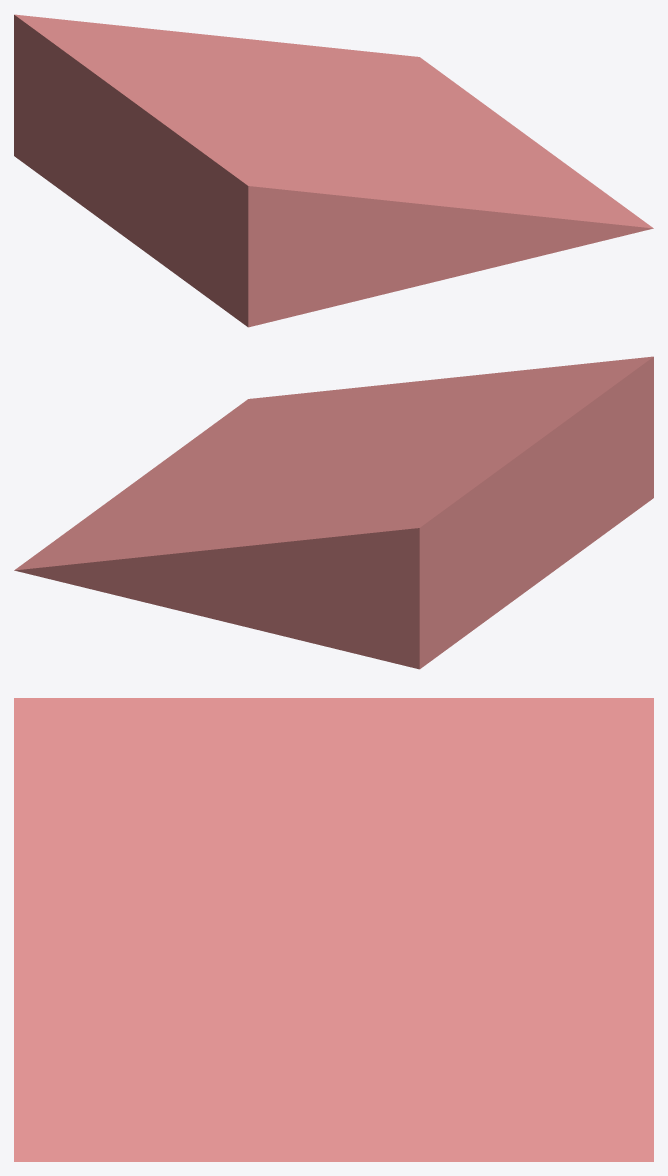
The model's file is ramp.fbx.
3 renders of one model, top to bottom at view 1: azimuth 30°, elevation 25°; view 2: azimuth 150°, elevation 25°; view 3: azimuth 270°, elevation 25°, orthographic. The views are drawn at different scales.
Parts seen in each view (by area): view 1: Ramp; view 2: Ramp; view 3: Ramp.
Boxes of the visible parts, x1,y1,x2,y2 form: Ramp: (14, 14, 653, 327); Ramp: (14, 356, 653, 669); Ramp: (14, 698, 653, 1161).
Size of the model in its own units: 15 by 5 by 15.
